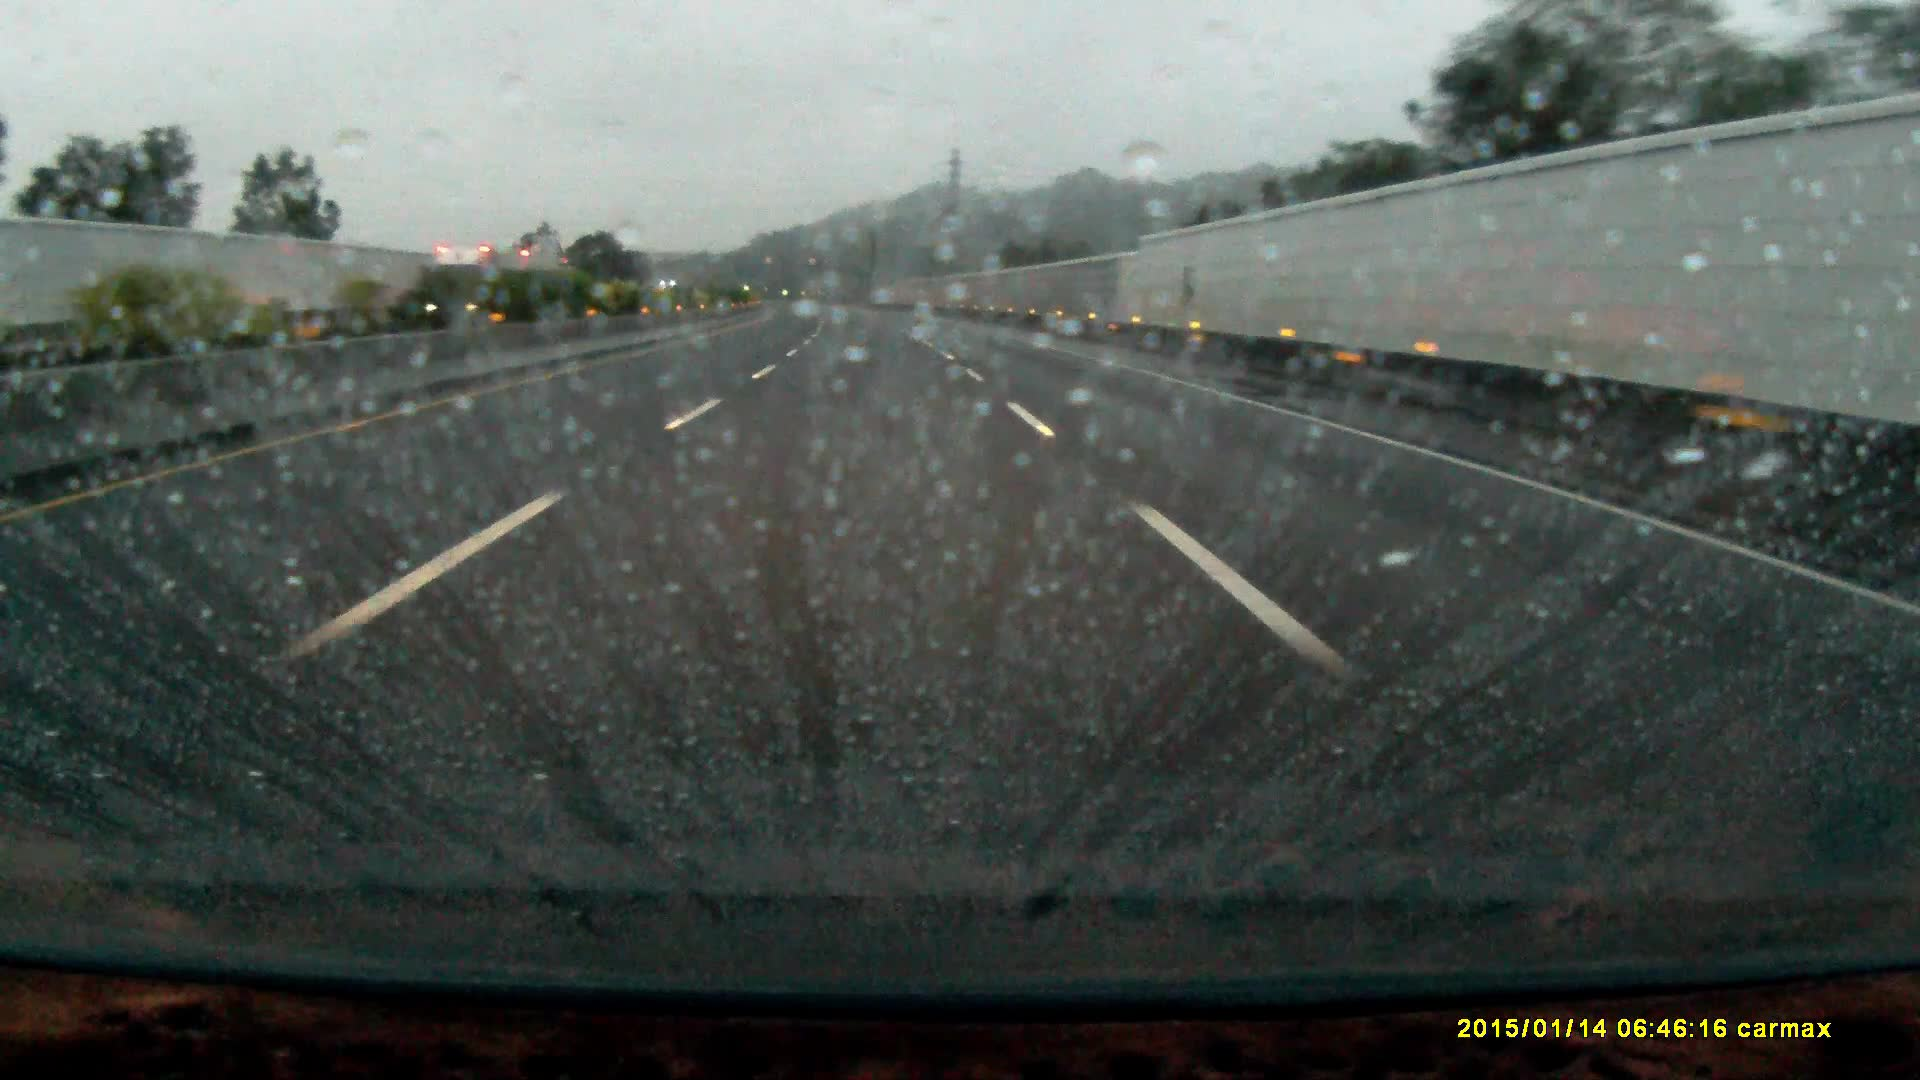vehicle: (425, 241, 553, 318)
